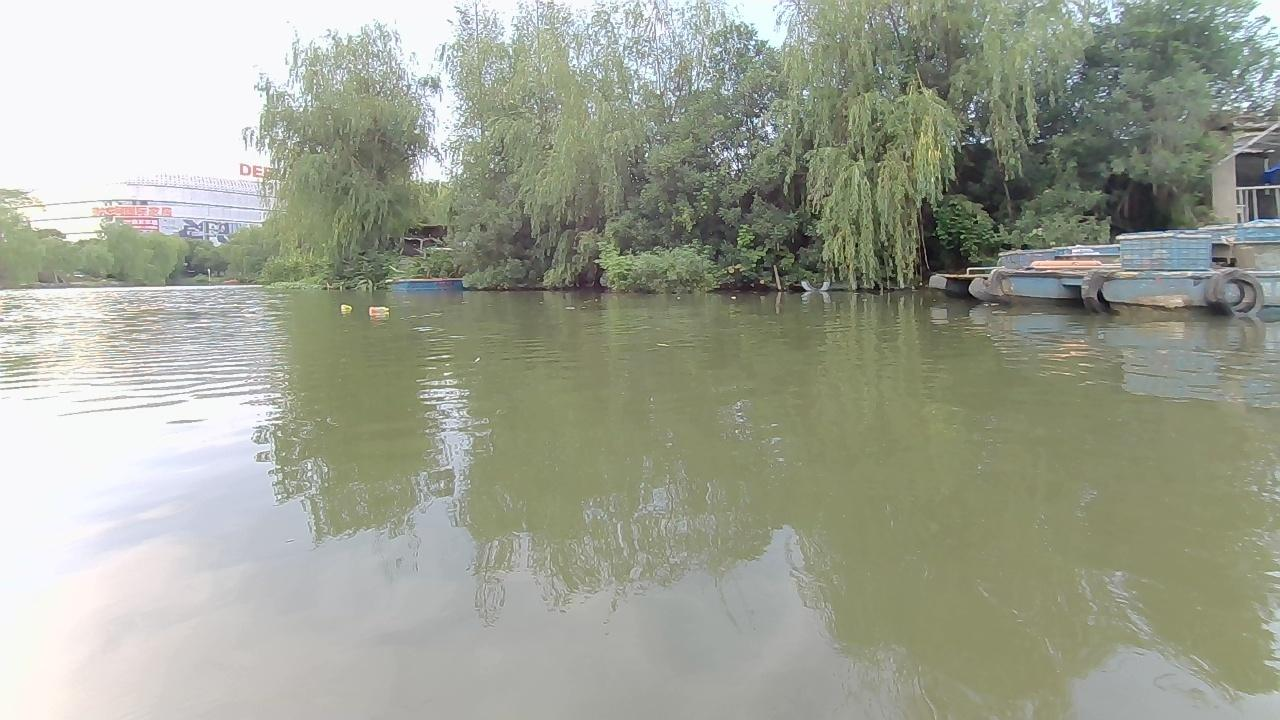bottle: (364, 305, 393, 321), (336, 301, 354, 317)
